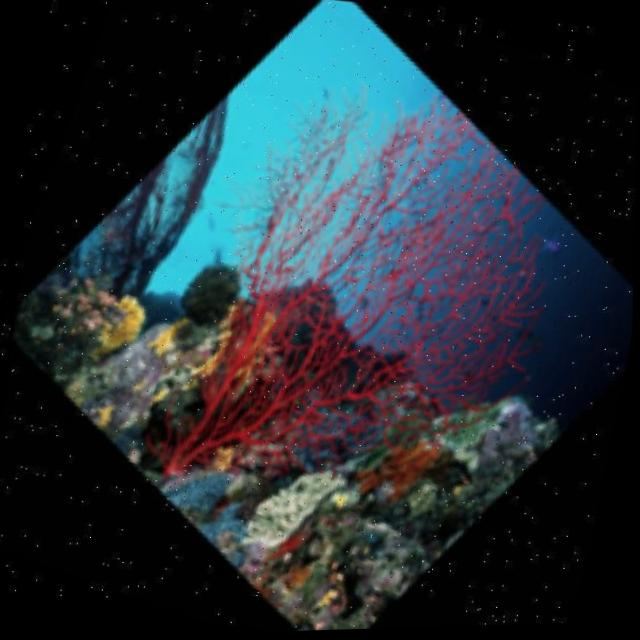Healthy Coral: (179, 107, 570, 518)
